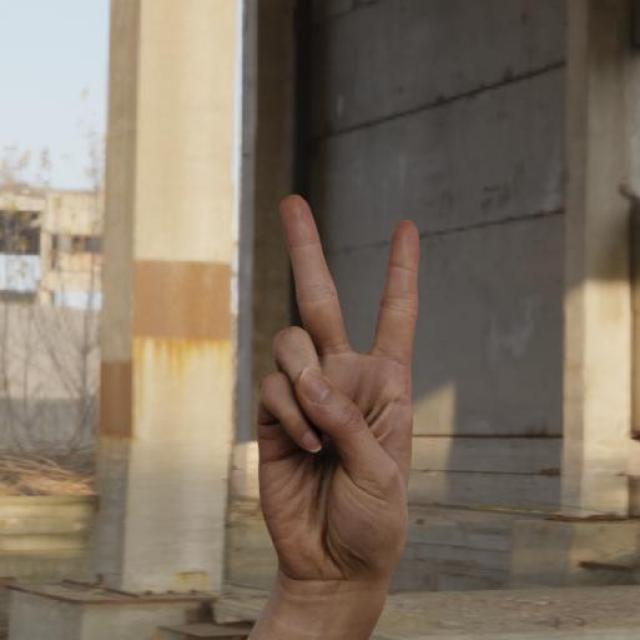V: (248, 192, 430, 588)
